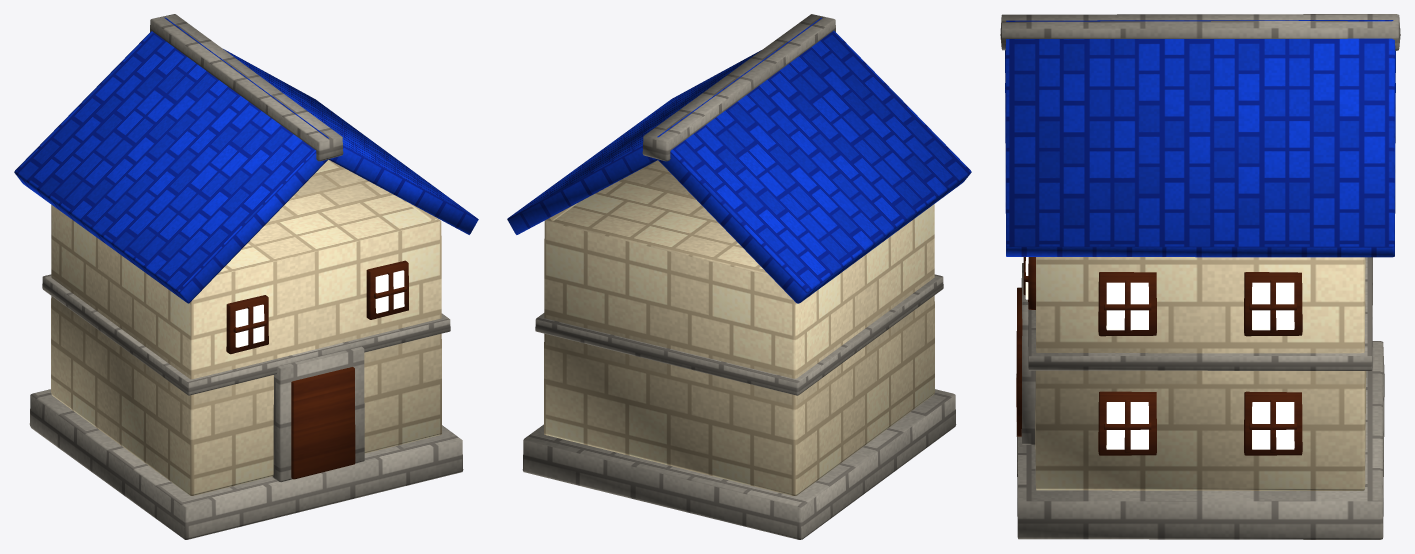
Rendered from OBJ30_sql_gable_roof_hall.glb.
3 renders of one model, left to right at view 1: azimuth 30°, elevation 25°; view 2: azimuth 150°, elevation 25°; view 3: azimuth 270°, elevation 25°, orthographic. The views are drawn at different scales.
Visible parts, largest first — view 1: Walls, RoofSlope_-1, Plinth, RoofSlope_1, DoorWood, MidBelt, RidgeBeam, DoorArch, Frame, Frame2, Glass, Glass2; view 2: Walls, RoofSlope_-1, Plinth, MidBelt, RoofSlope_1, RidgeBeam; view 3: RoofSlope_1, Walls, Plinth, RidgeBeam, MidBelt, Frame4, Frame6, Frame5, Frame3, Glass5, Glass6, DoorArch (+4 smaller).
Part boxes in pixels (x1,y1,x2,y2): Walls: (51,159,441,495); RoofSlope_-1: (14,18,328,303); Plinth: (29,389,463,539); RoofSlope_1: (164,17,478,234); DoorWood: (291,367,355,479); MidBelt: (42,274,450,395); RidgeBeam: (150,14,343,161); DoorArch: (272,346,364,482); Frame: (226,295,268,354); Frame2: (366,260,408,319); Glass: (235,304,264,347); Glass2: (375,270,404,313); Walls: (544,160,934,495); RoofSlope_-1: (658,18,971,303); Plinth: (522,389,956,539); MidBelt: (535,274,943,395); RoofSlope_1: (507,17,821,234); RidgeBeam: (642,14,835,161); RoofSlope_1: (1005,20,1395,257); Walls: (1035,257,1366,490); Plinth: (1016,341,1384,539); RidgeBeam: (1000,14,1400,50); MidBelt: (1028,257,1372,370); Frame4: (1098,391,1156,455); Frame6: (1098,272,1156,336); Frame5: (1244,272,1302,336); Frame3: (1244,391,1302,455); Glass5: (1252,282,1294,330); Glass6: (1106,282,1148,330); DoorArch: (1021,263,1035,445).
Bounding box in the file's own units: 1.8 × 2.14 × 1.76.
6 materials, 5 textured.
